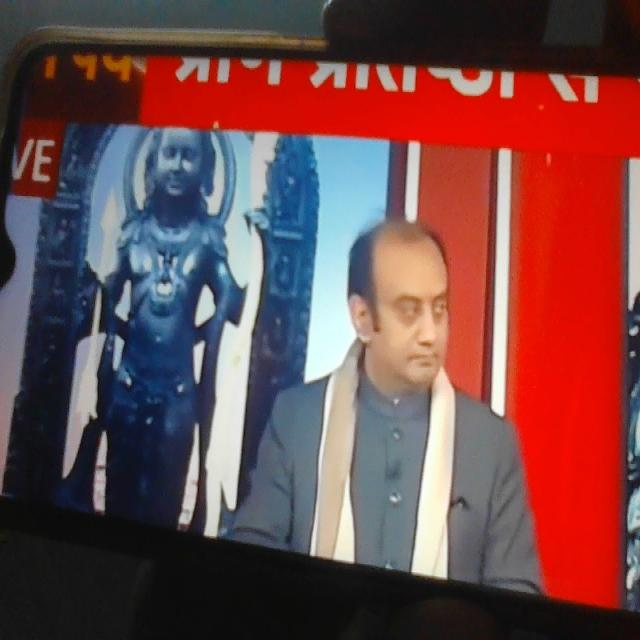fake: (351, 182, 472, 410)
